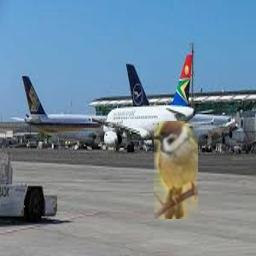Sparrow: (154, 121, 198, 219)
